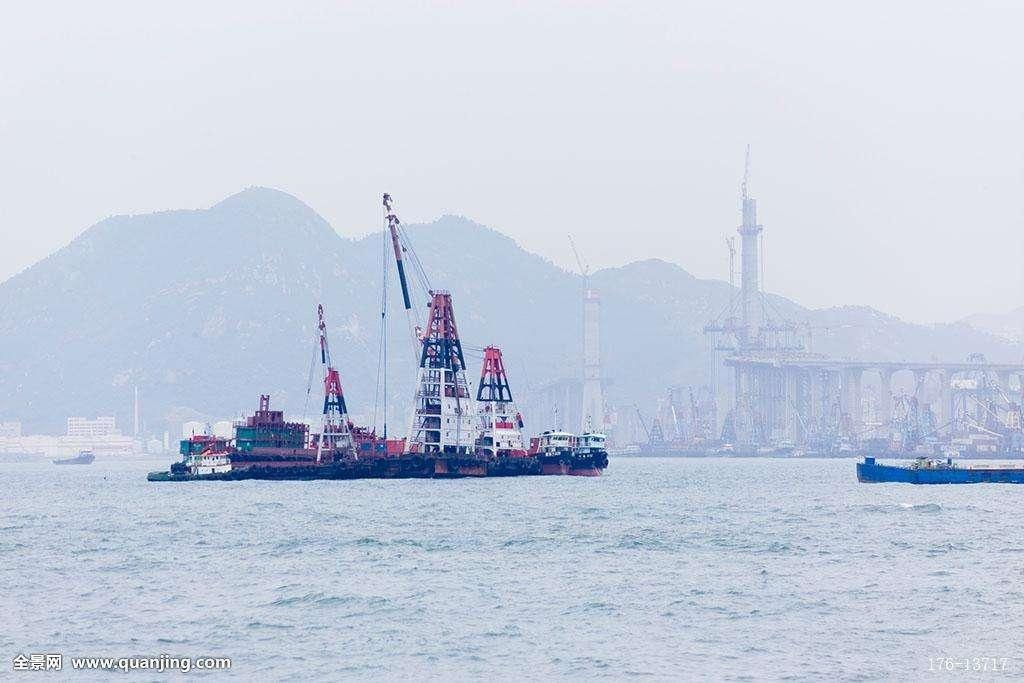Cargoship: (132, 288, 605, 490)
otherboat: (837, 432, 1024, 488)
